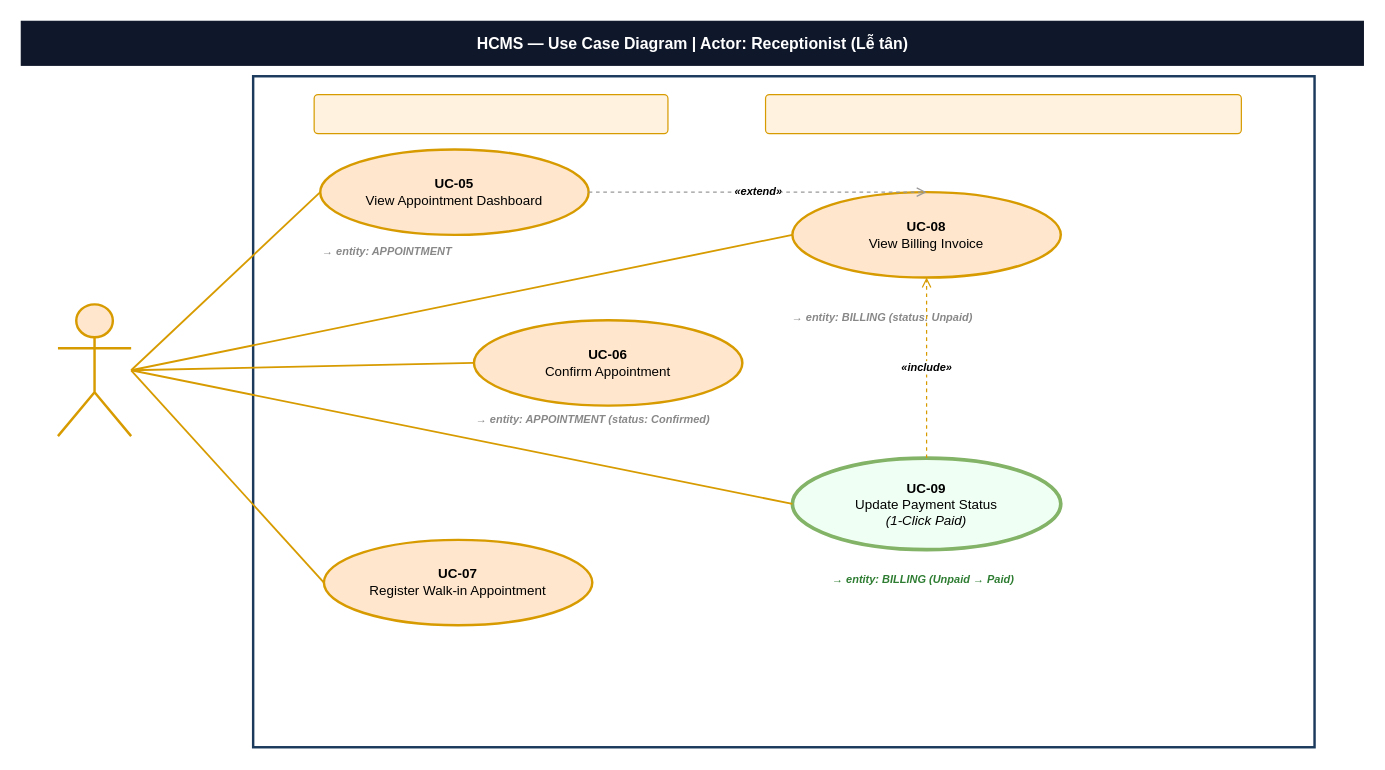
Image size: 1385x770. Some labels were removed from this diagram. The centre of each missing label's shape, as x and y in pixels:
"Feature: Appointment Management" belongs at point (490, 113).
"Feature: Billing & Payment" belongs at point (1002, 113).
"Receptionist (Lễ tân)" belongs at point (94, 370).
